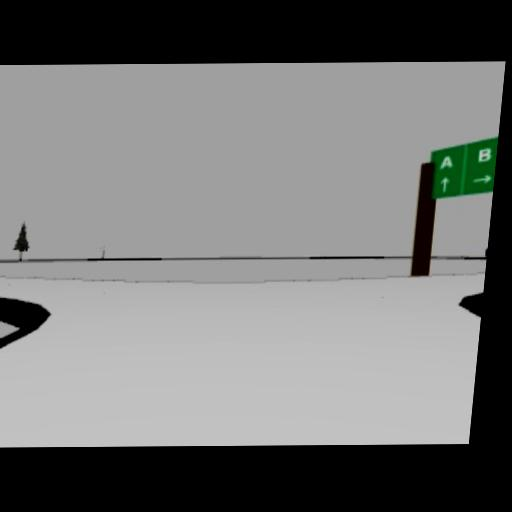A: (441, 154, 455, 171)
B: (477, 148, 492, 161)
Right: (472, 175, 491, 183)
Straight: (439, 177, 451, 191)
